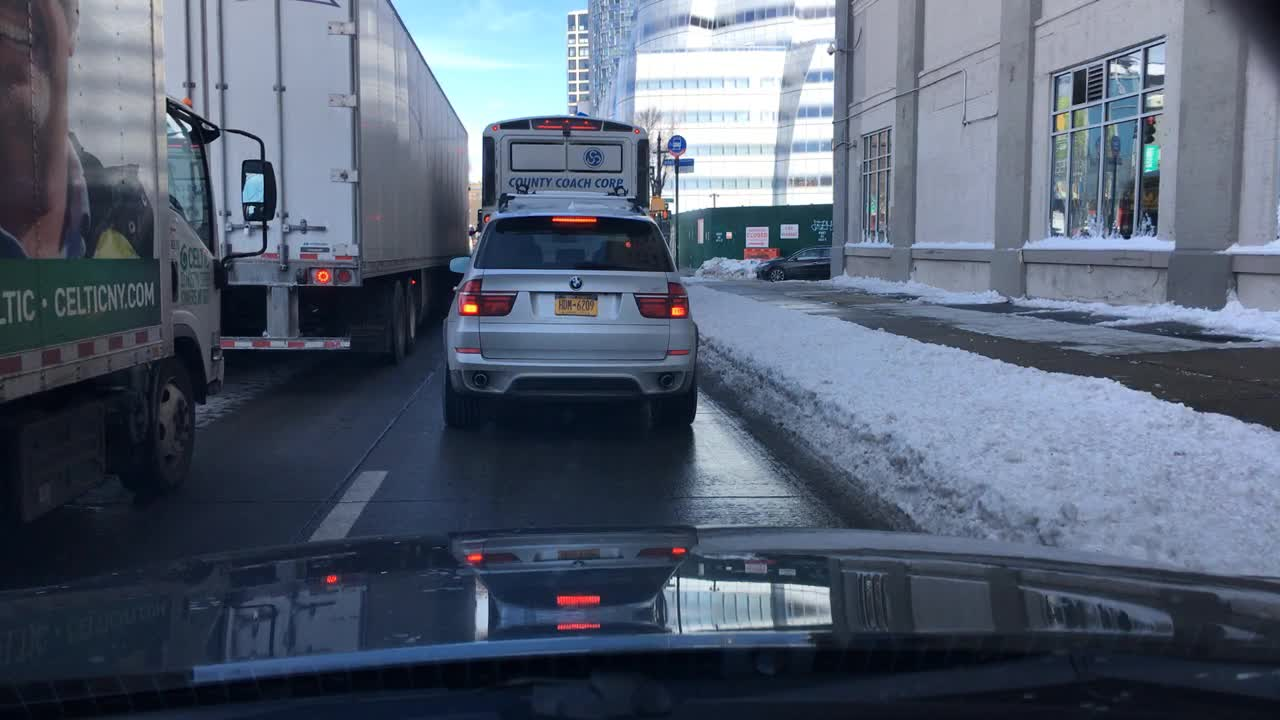bus: (476, 113, 649, 236)
car: (442, 192, 698, 432), (752, 246, 833, 280)
traffic light: (649, 194, 666, 209)
traffic sign: (666, 133, 685, 153), (678, 158, 695, 170), (658, 158, 673, 169)
truck: (0, 0, 278, 528), (163, 0, 474, 371)
